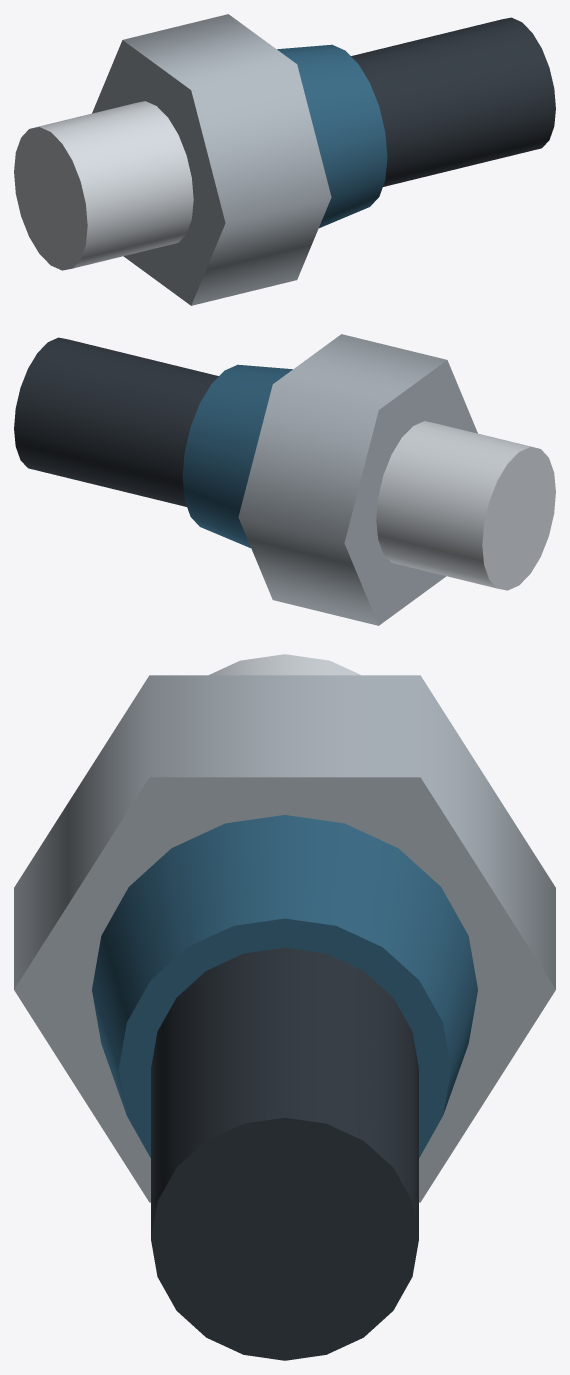
File: SPV-082-03.glb
The picture shows the model from 3 angles, top to bottom: view 1: azimuth 30°, elevation 25°; view 2: azimuth 150°, elevation 25°; view 3: azimuth 270°, elevation 25°; orthographic projection. The views are drawn at different scales.
Parts seen in each view (by area): view 1: 接头本体, 外螺纹, 接管示意, 快插卡套; view 2: 接头本体, 外螺纹, 接管示意, 快插卡套; view 3: 接头本体, 接管示意, 快插卡套, 外螺纹.
Boxes of the visible parts, x1=… form: 接头本体: x1=92, y1=14, x2=331, y2=305; 外螺纹: x1=14, y1=101, x2=193, y2=270; 接管示意: x1=351, y1=17, x2=555, y2=186; 快插卡套: x1=277, y1=44, x2=387, y2=228; 接头本体: x1=238, y1=334, x2=477, y2=625; 外螺纹: x1=376, y1=421, x2=555, y2=590; 接管示意: x1=14, y1=337, x2=218, y2=506; 快插卡套: x1=182, y1=364, x2=292, y2=548; 接头本体: x1=14, y1=675, x2=555, y2=1202; 接管示意: x1=151, y1=947, x2=418, y2=1360; 快插卡套: x1=92, y1=815, x2=477, y2=1157; 外螺纹: x1=209, y1=654, x2=360, y2=675.
Bounding box in the file's own units: 0.048 × 0.021 × 0.0242.
